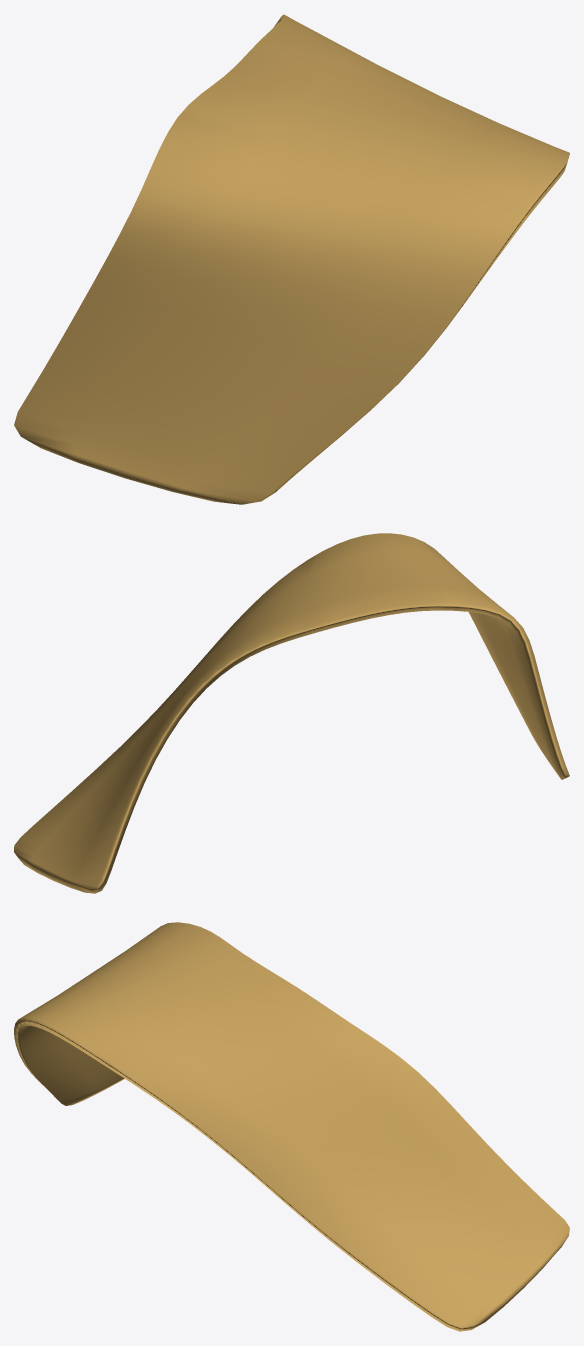
3 views of the same model, one above another, from view 1: azimuth 30°, elevation 25°; view 2: azimuth 150°, elevation 25°; view 3: azimuth 270°, elevation 25° (orthographic). The views are drawn at different scales.
Visible parts, largest first — view 1: 左侧腘腓韧带; view 2: 左侧腘腓韧带; view 3: 左侧腘腓韧带.
Boxes of the visible parts, left/top/right/bottom form: 左侧腘腓韧带: left=14, top=14, right=569, bottom=504; 左侧腘腓韧带: left=14, top=533, right=569, bottom=893; 左侧腘腓韧带: left=14, top=922, right=569, bottom=1331.
Bounding box in the file's own units: 0.0404 × 0.0218 × 0.0442.
